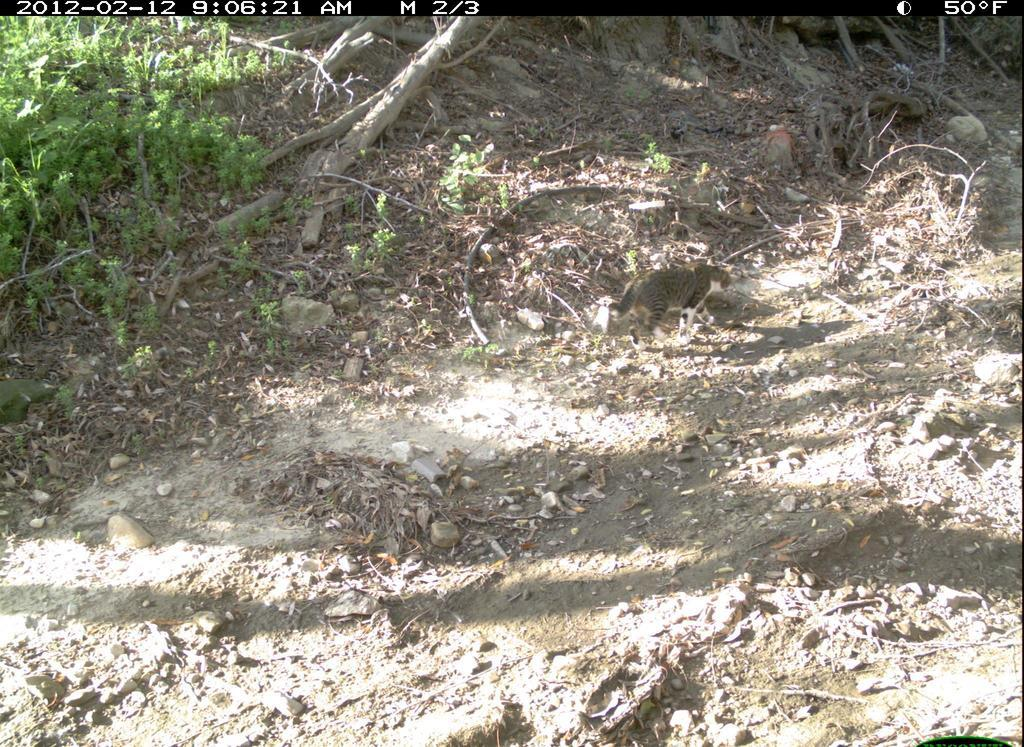cat: (602, 251, 758, 354)
